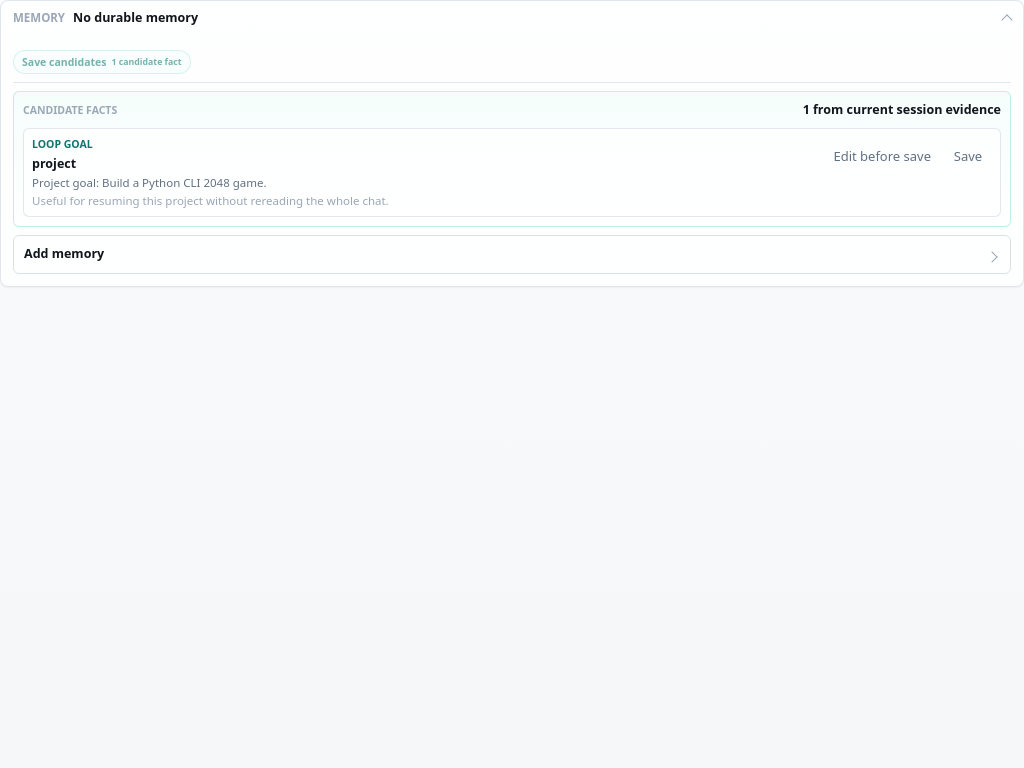
Test: SessionMemoryPanel › shows session-derived memory candidates and loads them into the write form
Expected: the element with test id "session-memory-candidates" shows "Candidate facts", [23,103,117,117]
Expected: the element with test id "session-memory-candidates" shows "Project goal: Build a Python CLI 2048 game.", [32,175,267,190]
Click the button "Edit before save" at coordinates (882, 157), box [826,137,938,177]
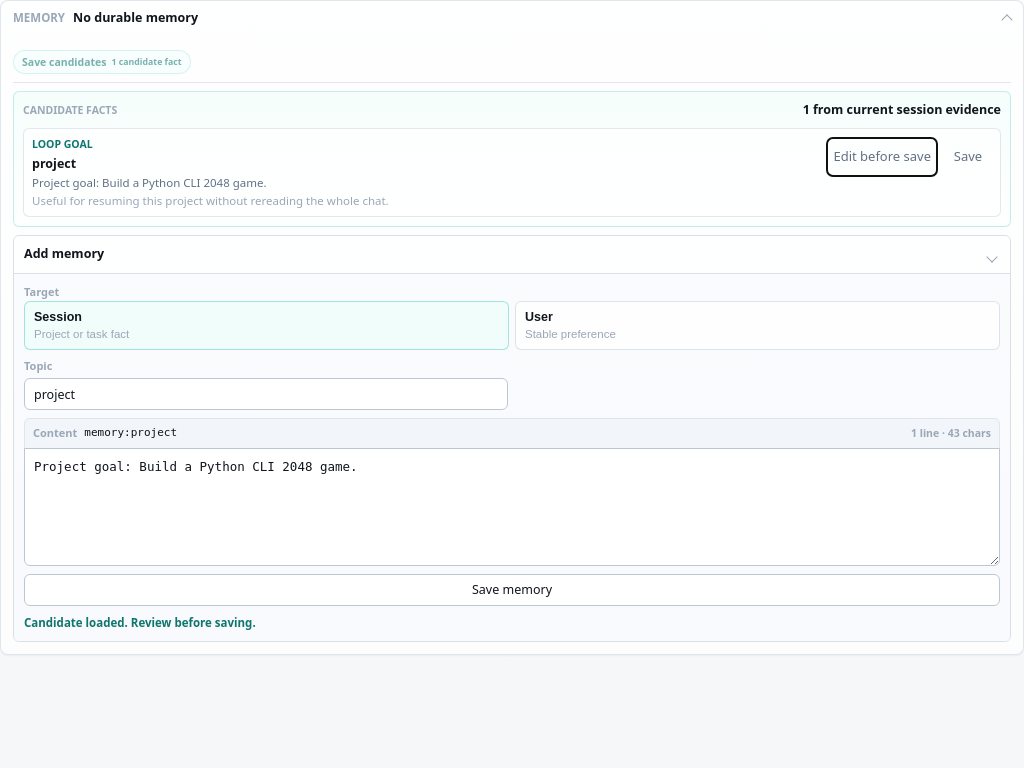
Now the field labelled "Topic" holds "project", box [24,378,508,410]
Now the text box named "Content" holds "Project goal: Build a Python CLI 2048 game.", box [24,448,1000,566]
Now the text "Candidate loaded. Review before saving." is shown, box [24,615,256,630]
Click the button "Save" at coordinates (968, 157), box [944,137,992,177]
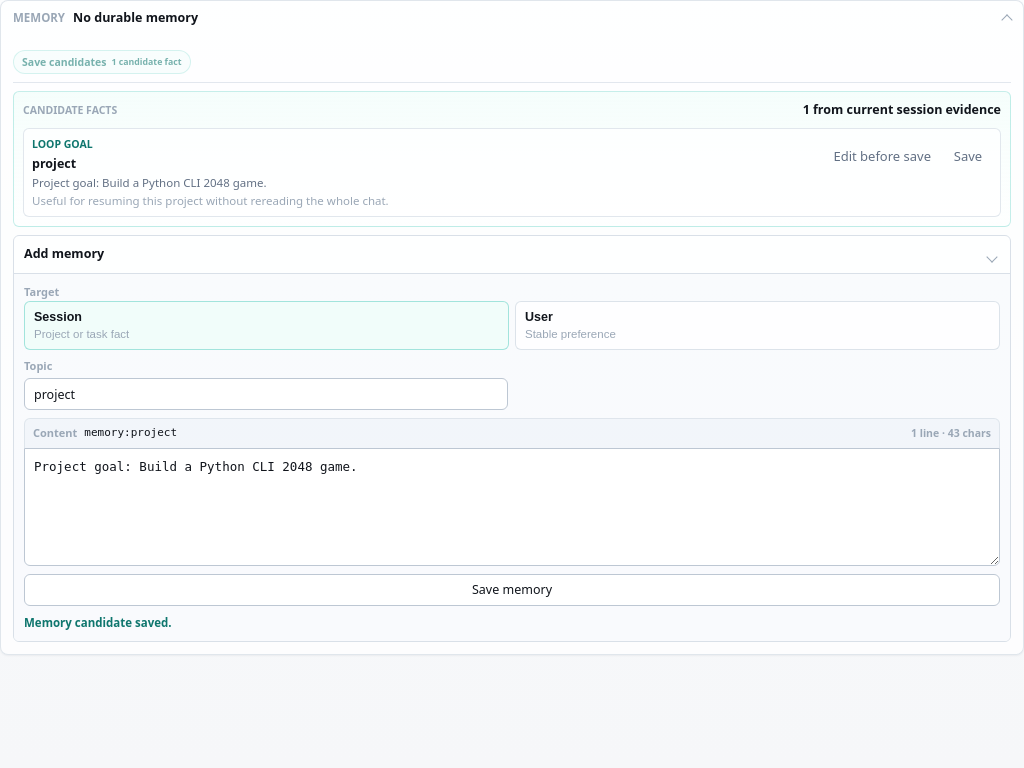
Now the text "Memory candidate saved." is shown, box [24,615,172,630]
